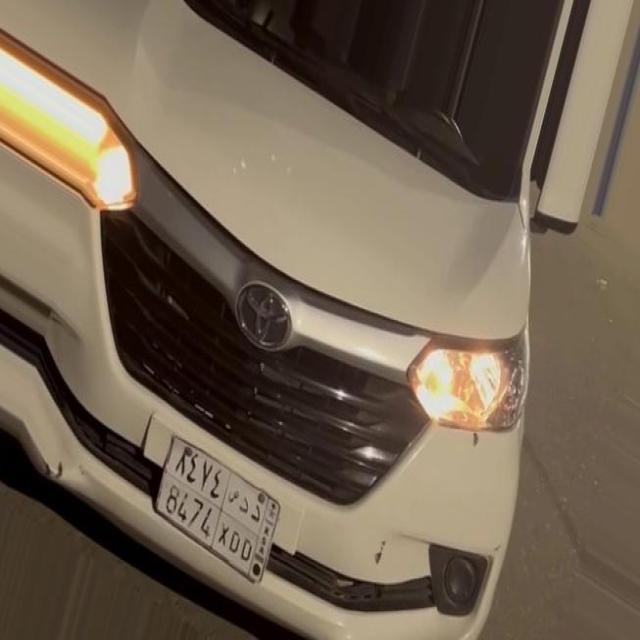Car-plate: (139, 411, 297, 605)
